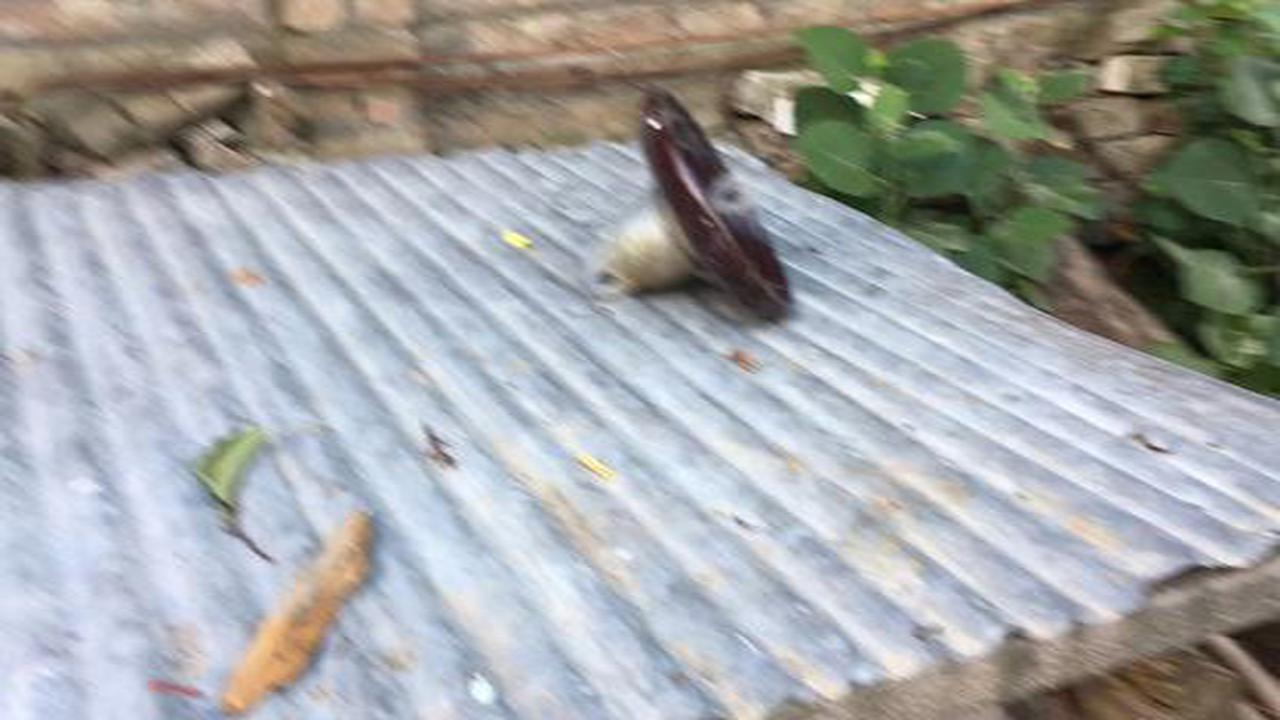insulator_disc: (591, 84, 798, 328)
